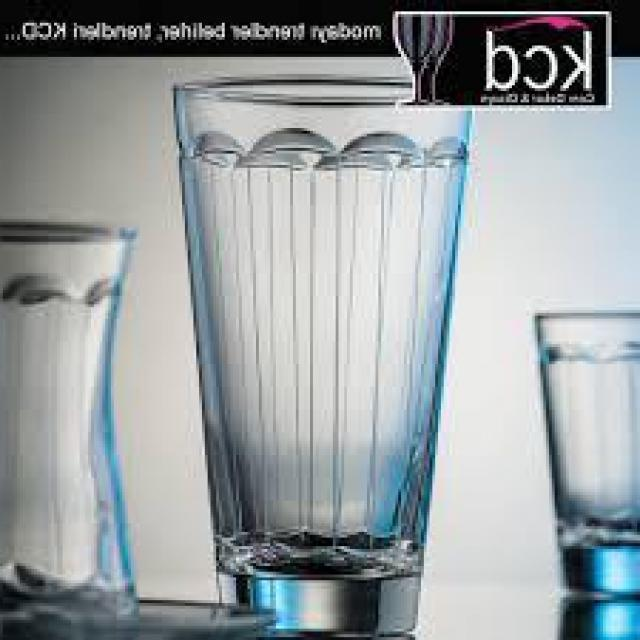glass: (169, 74, 482, 637), (0, 219, 279, 640), (526, 308, 640, 604)
